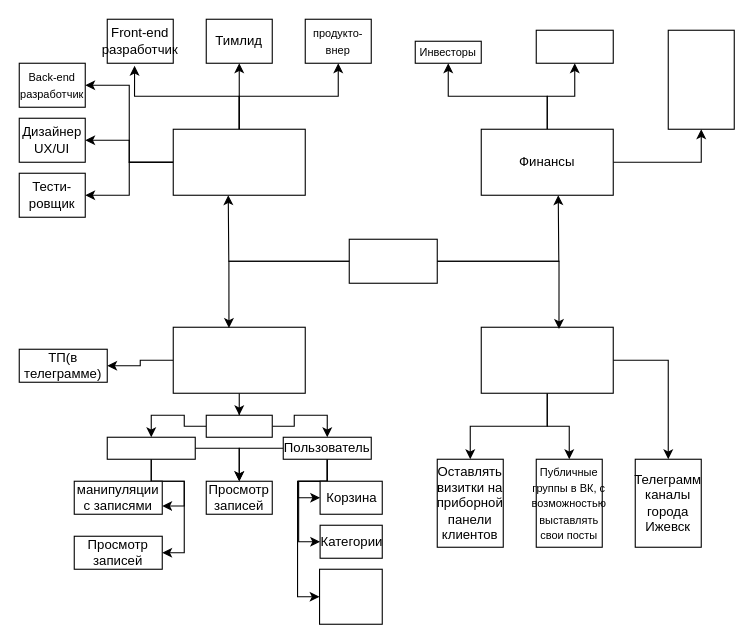
Image size: 755x644. Some labels were removed from this diagram. Each missing label, with the centre of its shape:
"Возможность и желание, самому работать без оплаты труда" goes at point 700,79.
"Меню" goes at point 238,425.
"Механик" goes at point 150,447.
"Поиск людей" goes at point 238,161.
"Разработка" goes at point 238,359.
"Реклама" goes at point 546,359.
"совместные накопления" goes at point 574,46.
"Узнать загружен-ность" goes at point 350,596.
"Шиномонтаж" goes at point 392,260.
